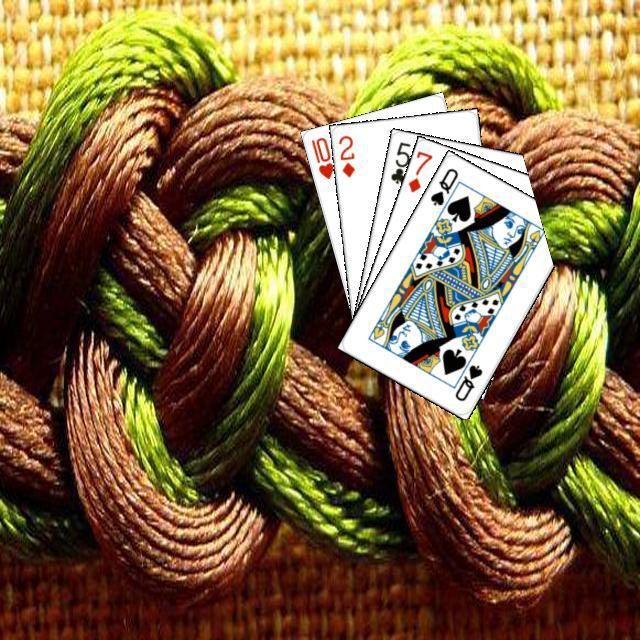10h: (306, 132, 335, 181)
2d: (334, 130, 357, 179)
5c: (386, 137, 412, 186)
7d: (403, 146, 434, 194)
Qs: (425, 163, 460, 207), (450, 360, 484, 403)
